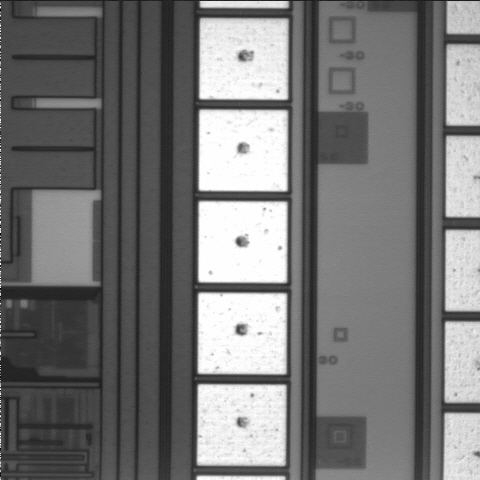pad: (199, 18, 288, 100), (198, 201, 287, 283), (197, 384, 286, 466), (199, 110, 288, 191), (198, 293, 287, 374)
